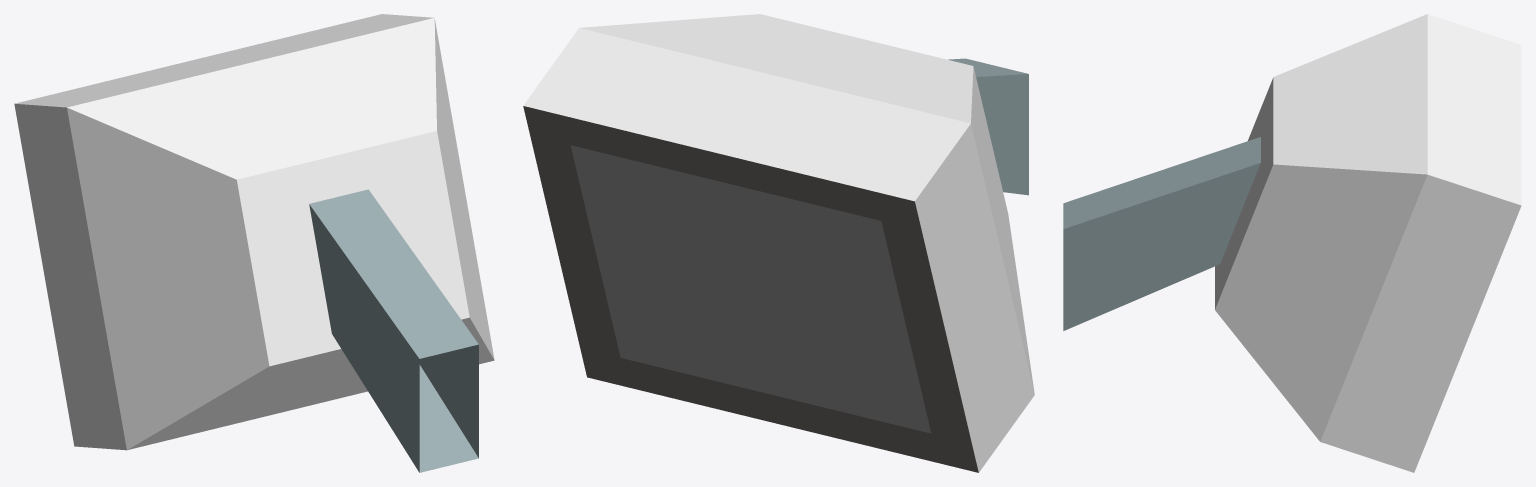
3 renders of one model, left to right at view 1: azimuth 30°, elevation 25°; view 2: azimuth 150°, elevation 25°; view 3: azimuth 270°, elevation 25°, orthographic. The views are drawn at different scales.
Parts seen in each view (by area): view 1: SM_TV_02; view 2: SM_TV_02; view 3: SM_TV_02.
Boxes of the visible parts, x1,y1,x2,y2 form: SM_TV_02: [14, 14, 494, 472]; SM_TV_02: [523, 14, 1034, 472]; SM_TV_02: [1063, 14, 1521, 472].
Bounding box in the file's own units: 76.21 × 91.92 × 66.04.
